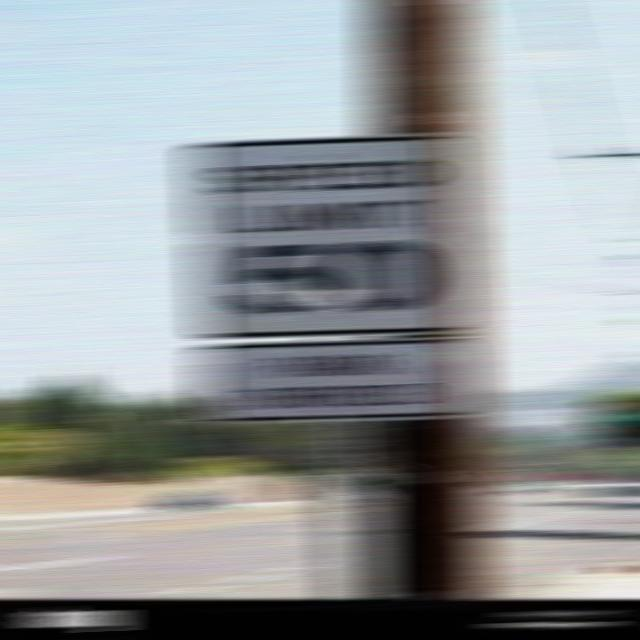speedLimit50: (186, 131, 472, 336)
